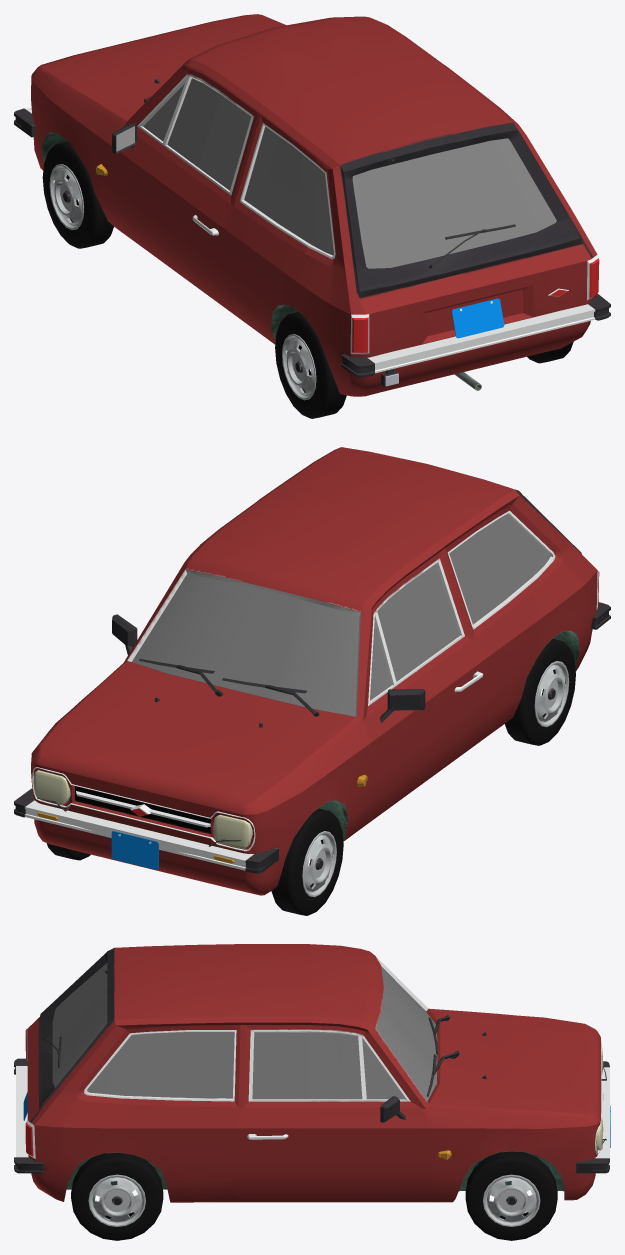
3 renders of one model, top to bottom at view 1: azimuth 30°, elevation 25°; view 2: azimuth 150°, elevation 25°; view 3: azimuth 270°, elevation 25°, orthographic. The views are drawn at different scales.
Parts seen in each view (by area): view 1: Headlampwiperright; view 2: Headlampwiperright; view 3: Headlampwiperright.
Boxes of the visible parts, bbox=[...] form: Headlampwiperright: bbox=[14, 14, 610, 418]; Headlampwiperright: bbox=[14, 447, 610, 915]; Headlampwiperright: bbox=[14, 944, 610, 1240].
Size of the model in its own units: 106 by 82.99 by 208.
Materials: 1 (1 with a texture image).
